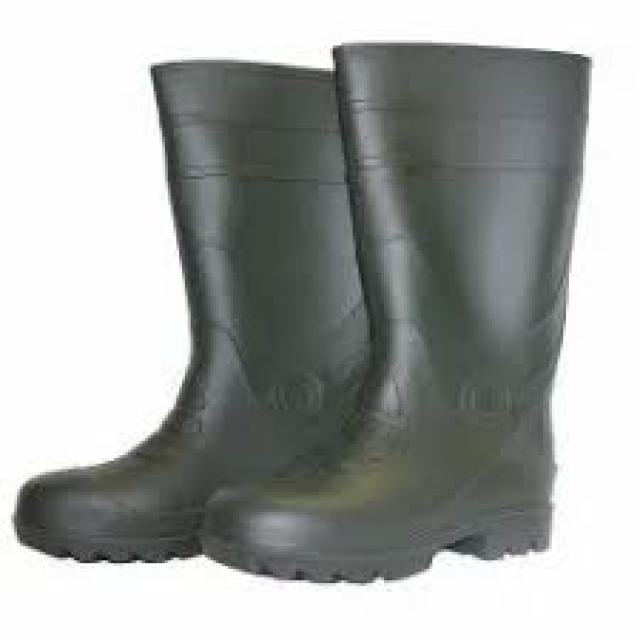shoes: (18, 44, 590, 581)
